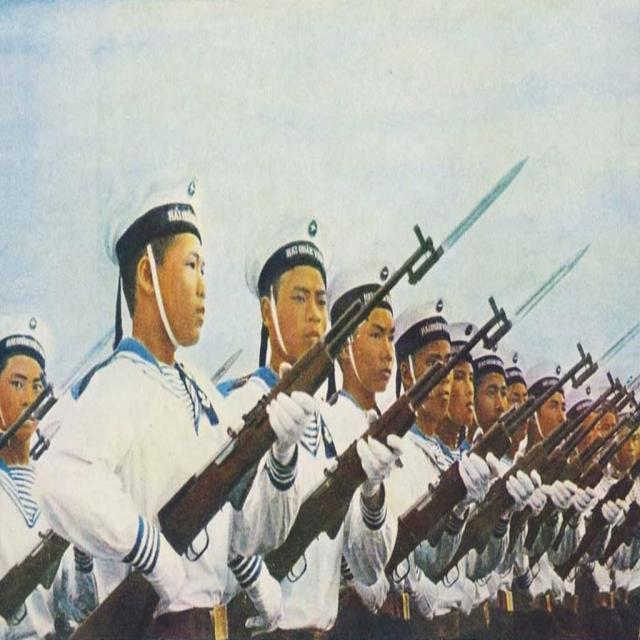weapon: (67, 159, 526, 639)
